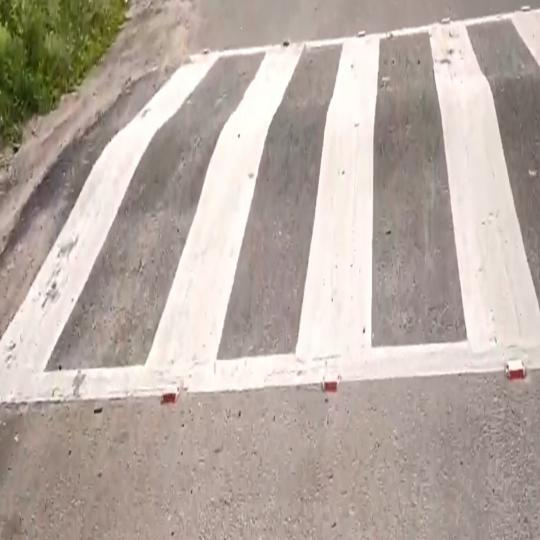Speed Bump: (0, 8, 540, 406)
